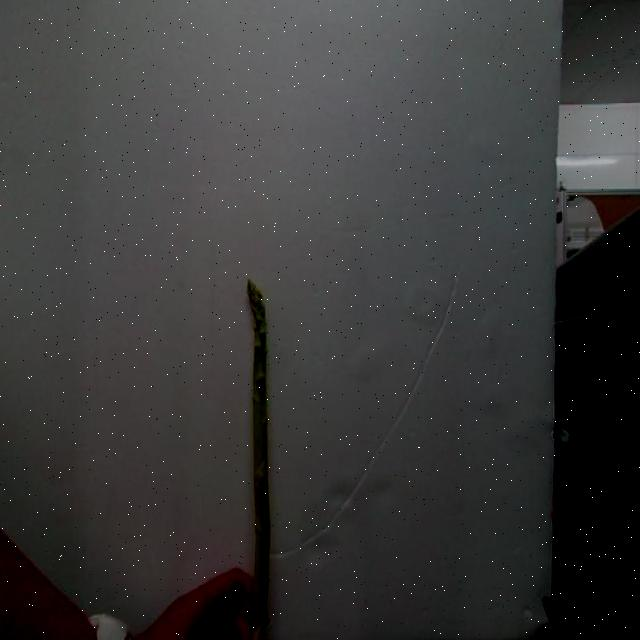aspargus: (248, 282, 272, 640)
